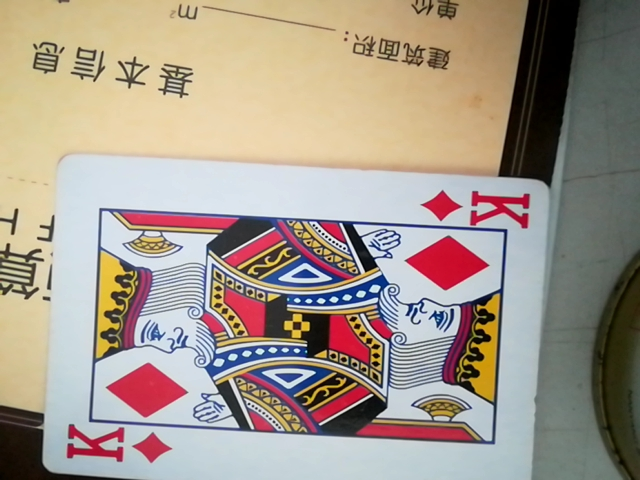fk k: (39, 159, 553, 480)
